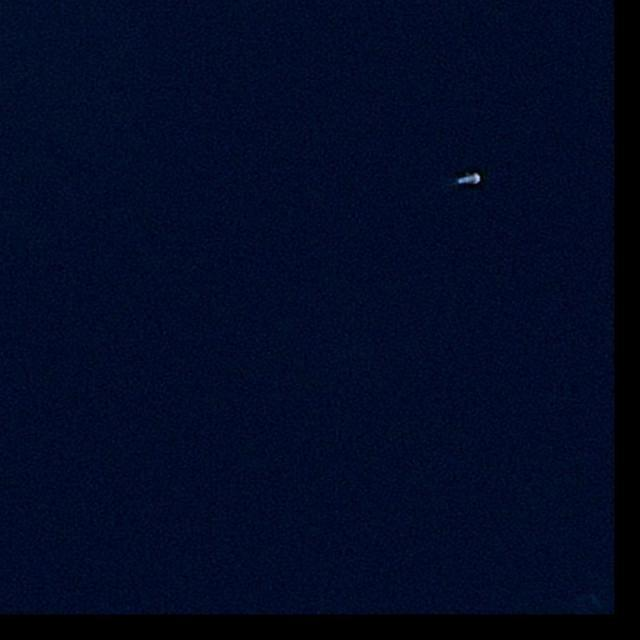ship: (459, 178, 475, 186)
